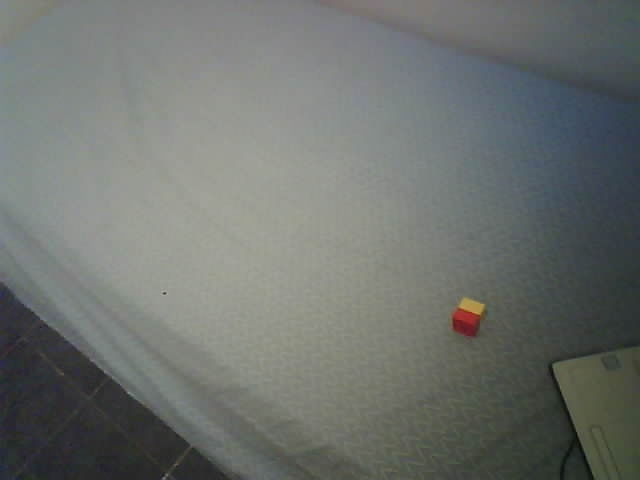lego: (451, 296, 487, 337)
